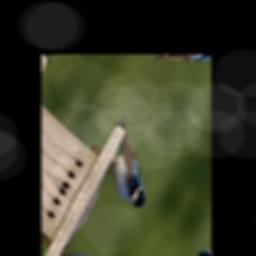Swallow: (87, 107, 171, 215)
